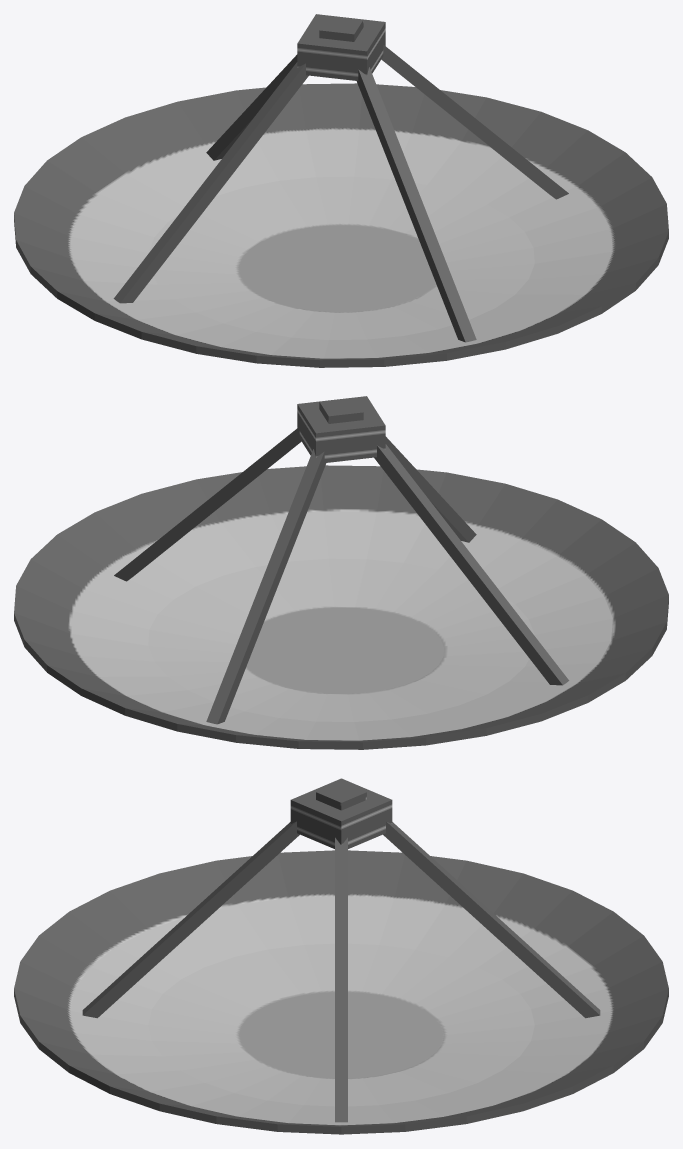
Rendered from teledish.obj.
3 renders of one model, top to bottom at view 1: azimuth 30°, elevation 25°; view 2: azimuth 150°, elevation 25°; view 3: azimuth 270°, elevation 25°, orthographic.
Visible parts, largest first — view 1: main; view 2: main; view 3: main.
Boxes of the visible parts, <box> form: main: <box>14,14,668,367</box>; main: <box>14,396,668,749</box>; main: <box>14,778,668,1134</box>.
Size of the model in its own units: 4.64 by 2.4 by 4.64.
